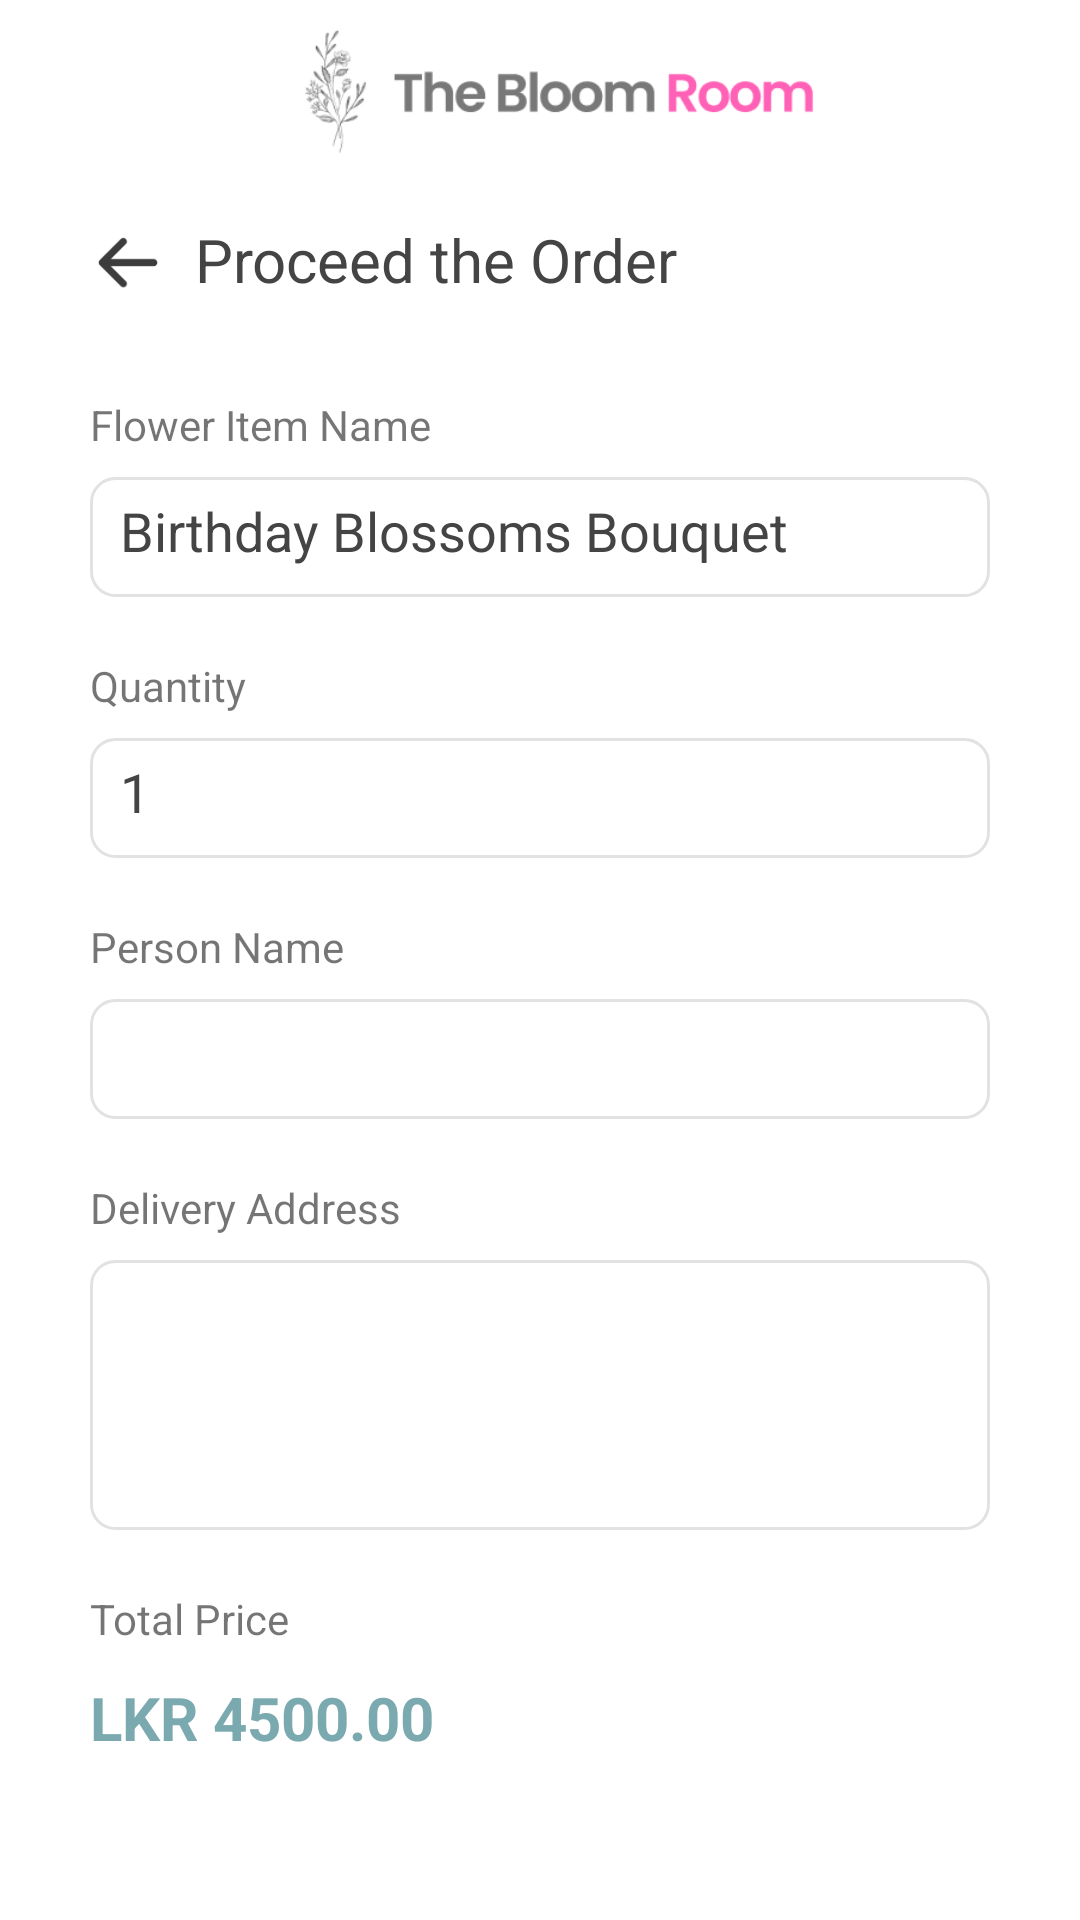

Screen size 1080x1920. Icon name, then its box in pixels as (x1, y1, x2, y2):
back: (98, 237, 158, 288)
